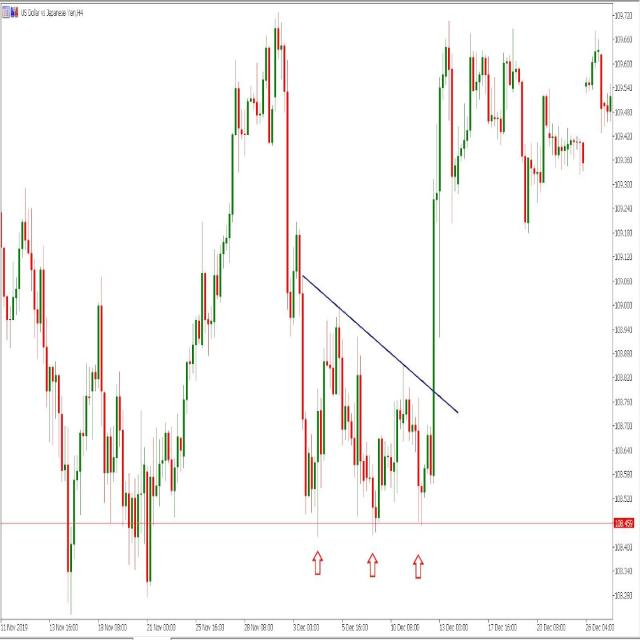Triple-Bottom: (294, 347, 443, 521)
Triple-Top: (423, 34, 535, 180)
